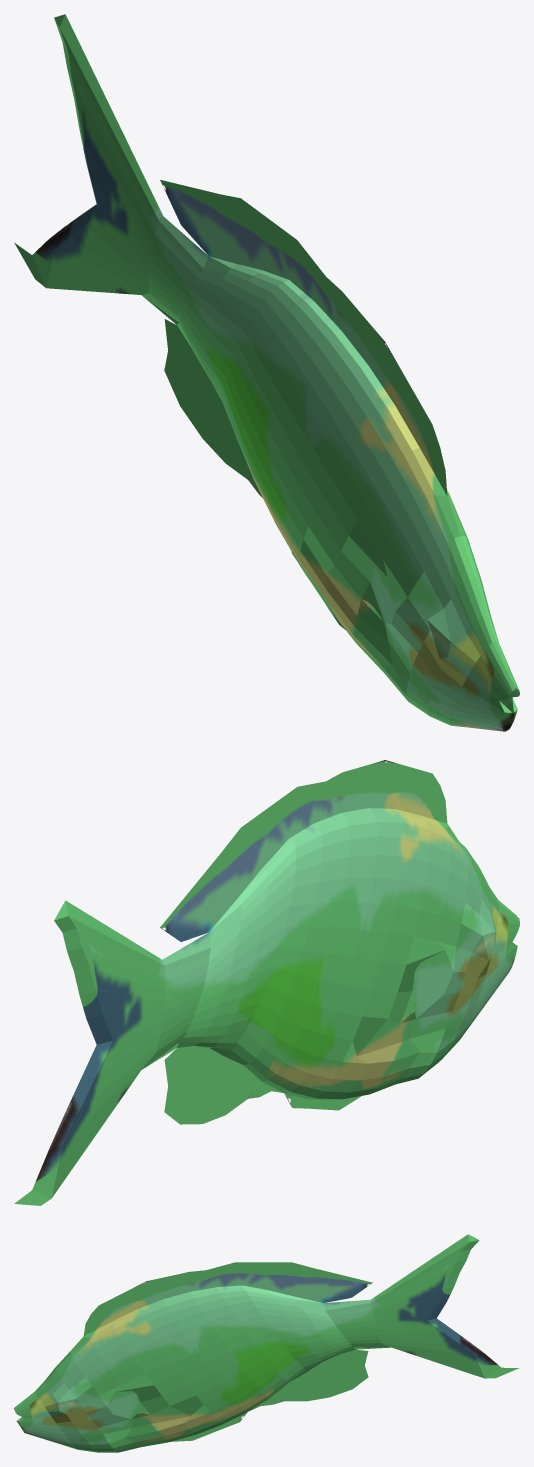
The model's file is Gay fish (Kanye West).fbx.
The picture shows the model from 3 angles, top to bottom: view 1: azimuth 30°, elevation 25°; view 2: azimuth 150°, elevation 25°; view 3: azimuth 270°, elevation 25°; orthographic projection. The views are drawn at different scales.
Visible parts, largest first — view 1: Sphere; view 2: Sphere; view 3: Sphere.
Boxes of the visible parts, left/top/right/bottom form: Sphere: left=14, top=14, right=519, bottom=731; Sphere: left=14, top=760, right=519, bottom=1205; Sphere: left=14, top=1234, right=519, bottom=1452.
Size of the model in its own units: 0.503 by 3.55 by 7.46.
1 material, 1 textured.
